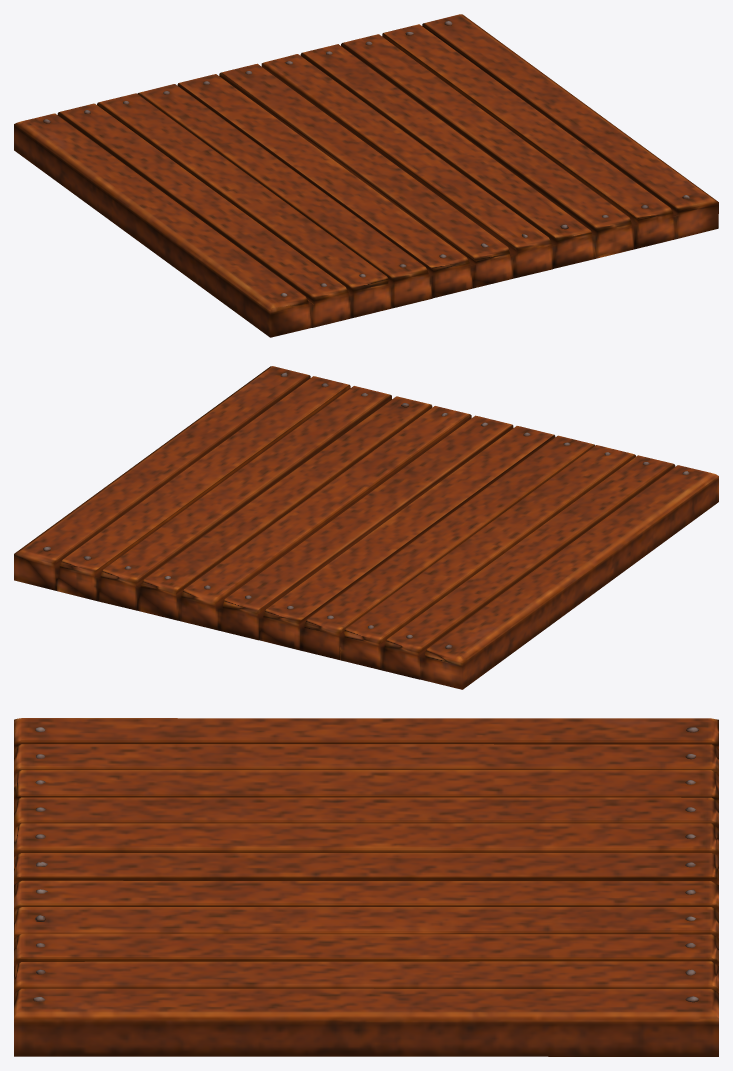
The model's file is HK_floor_finished.glb.
3 views of the same model, one above another, from view 1: azimuth 30°, elevation 25°; view 2: azimuth 150°, elevation 25°; view 3: azimuth 270°, elevation 25° (orthographic). The views are drawn at different scales.
Visible parts, largest first — view 1: geometry_0; view 2: geometry_0; view 3: geometry_0.
Boxes of the visible parts, x1,y1,x2,y2 form: geometry_0: [14, 14, 718, 337]; geometry_0: [14, 366, 718, 689]; geometry_0: [14, 718, 718, 1056].
Bounding box in the file's own units: 0.9497 × 0.0659 × 0.9399.
1 material, 1 textured.
